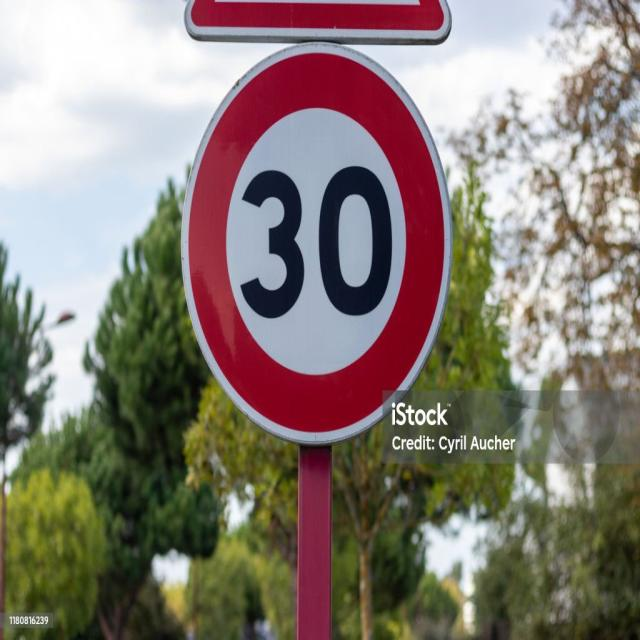Speed limit 30: (179, 42, 455, 450)
